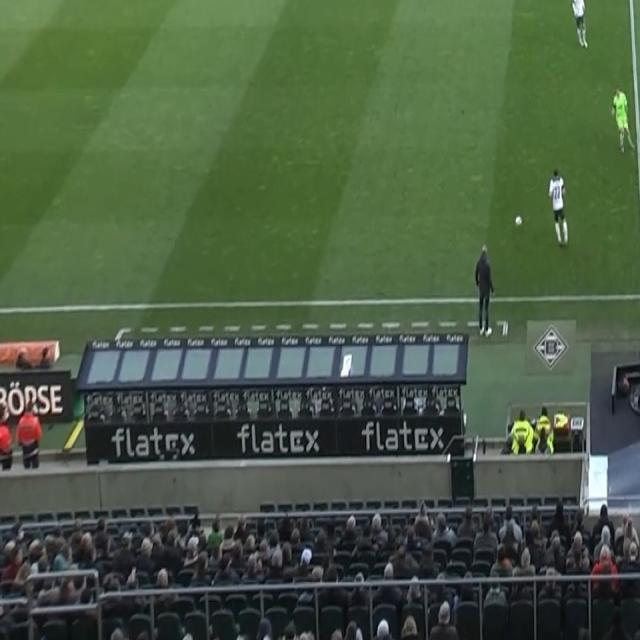ball: (514, 213, 524, 228)
